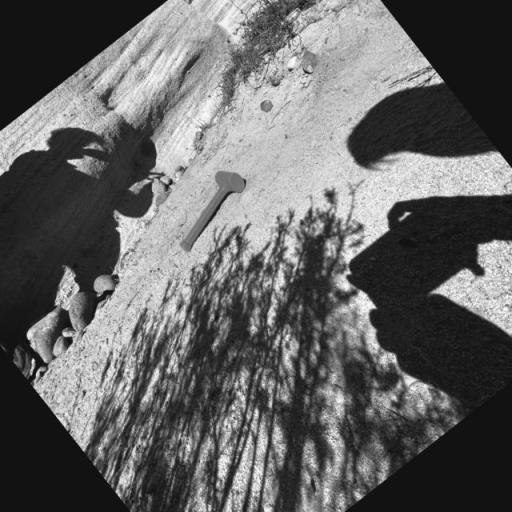mallet: (154, 157, 262, 258)
